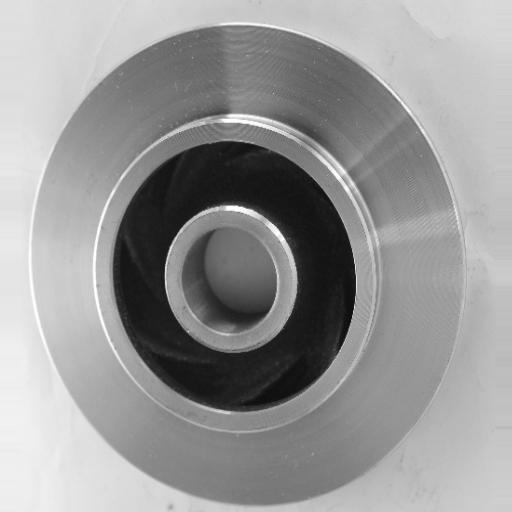polished_casting: (28, 22, 465, 512)
